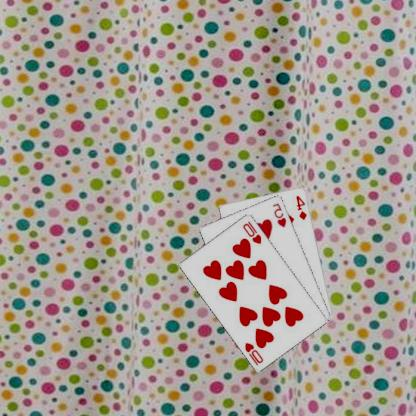10H: (242, 218, 265, 245), (244, 340, 266, 366)
4D: (296, 193, 310, 221)
5H: (272, 200, 290, 228)
